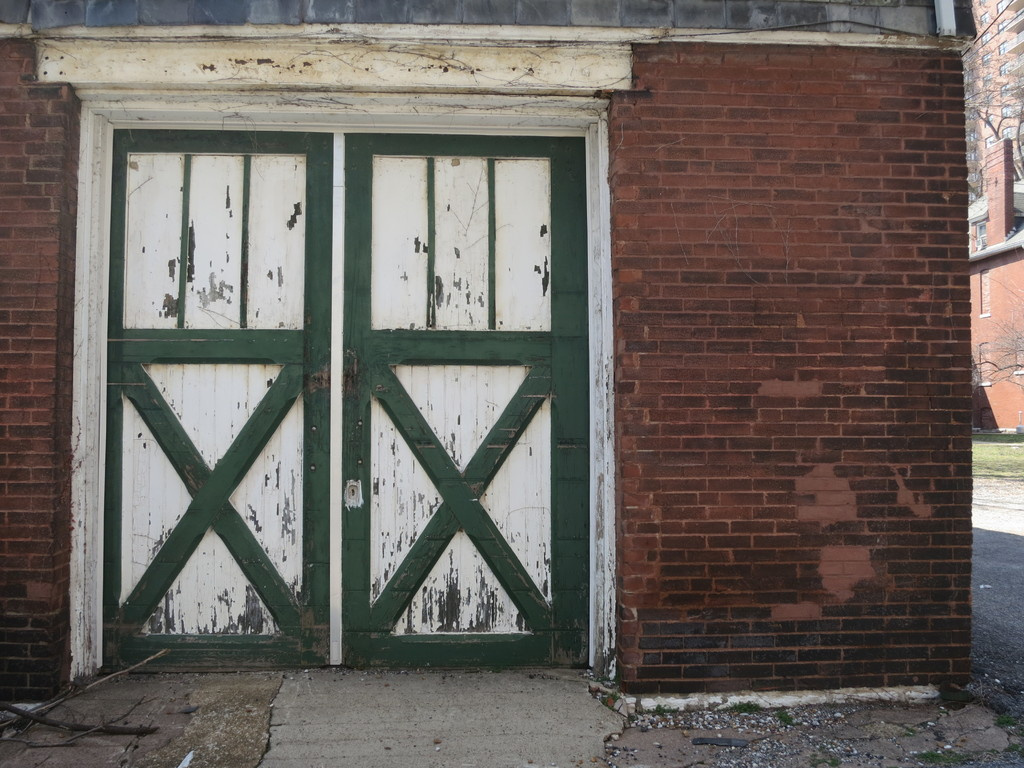door: (350, 139, 586, 669), (114, 135, 328, 665)
